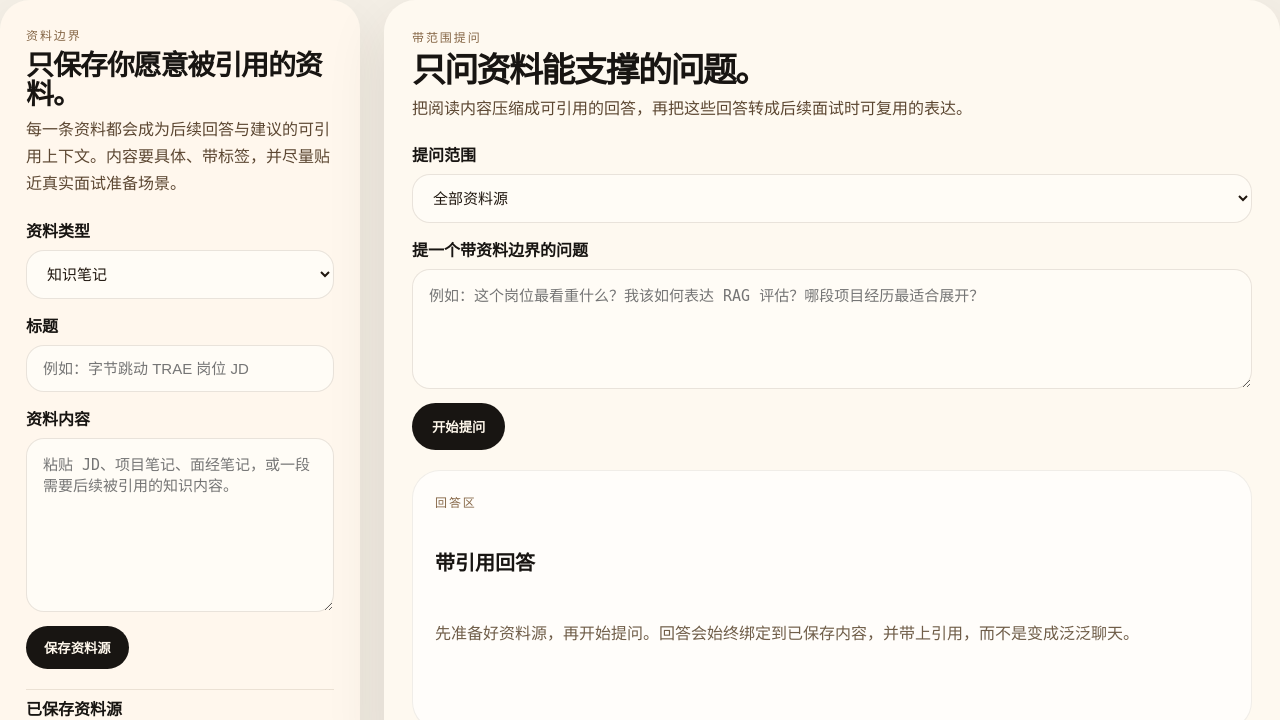
Test: KnowledgeWorkspace › renders the source list and question workflow
This screenshot has width=1280, height=720.
Type "What does this JD care about most?" into the text box labelled "提一个带资料边界的问题" at (832, 329), box [412,269,1252,389]
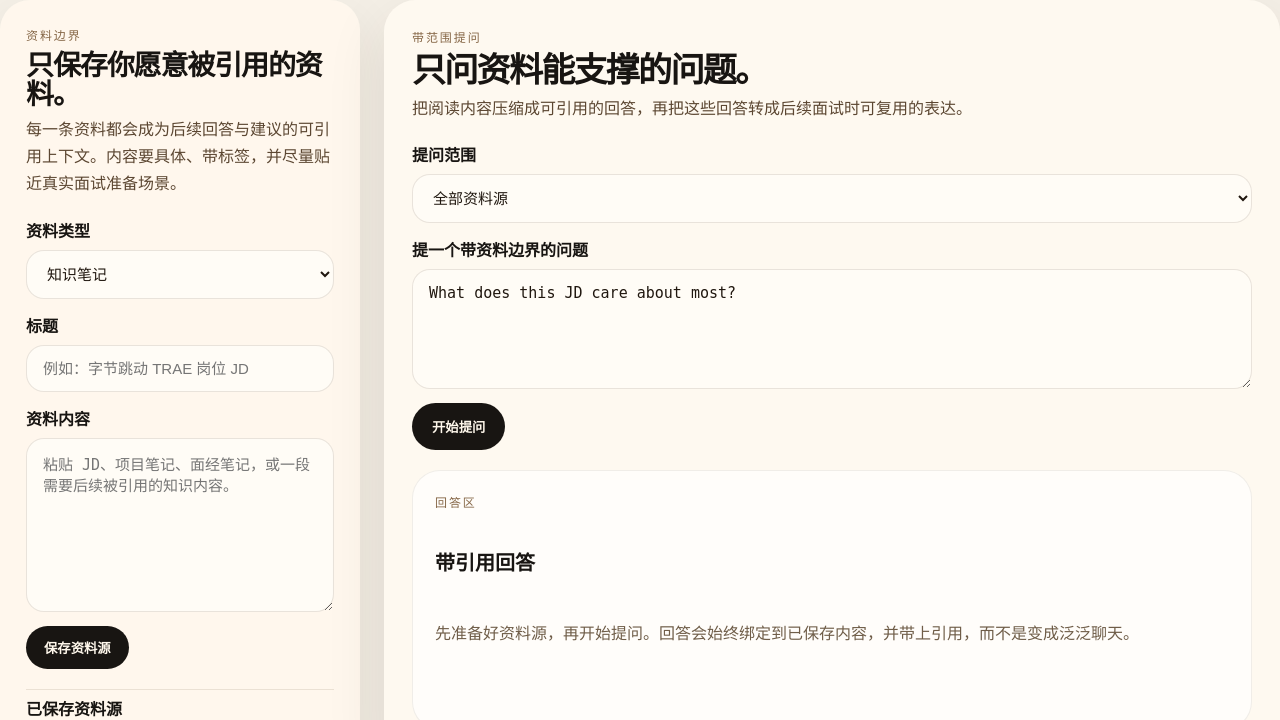
Submit the form from the button "开始提问", box [412,403,505,450]
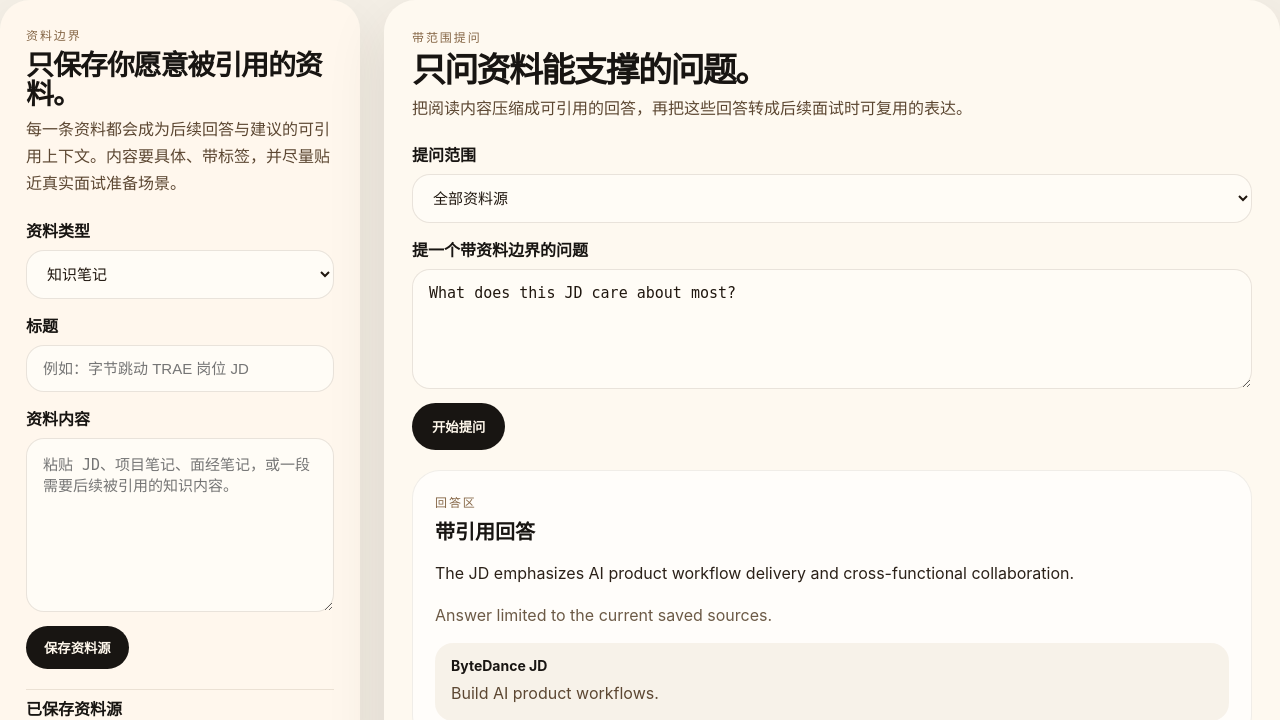
Expected: the text "AI product workflow delivery" is shown, [435,563,1074,583]
Expected: the text "Answer limited to the current saved sources." is shown, [435,605,772,625]
